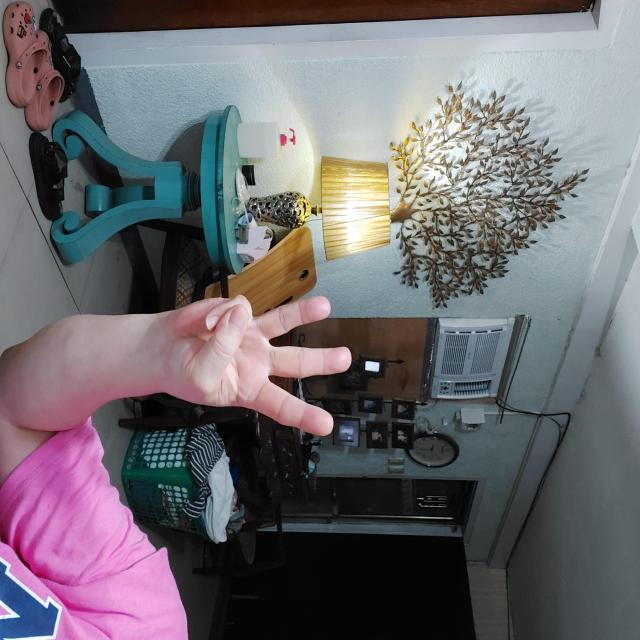W: (295, 286, 437, 476)
